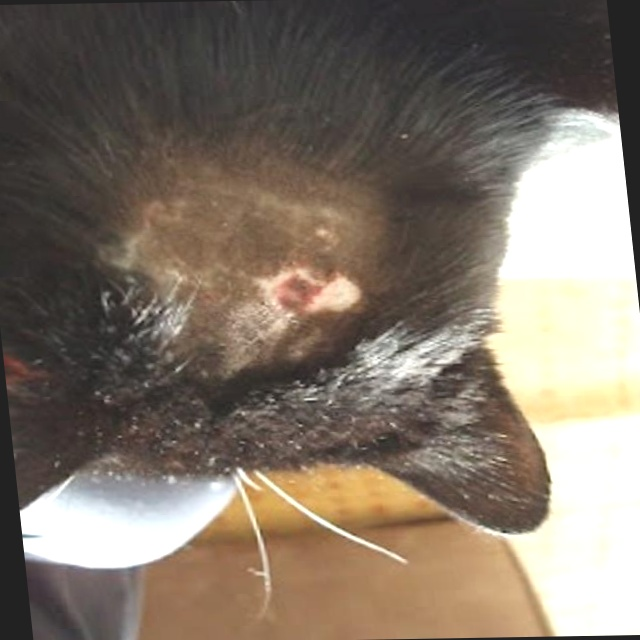ringworm: (261, 261, 373, 326)
